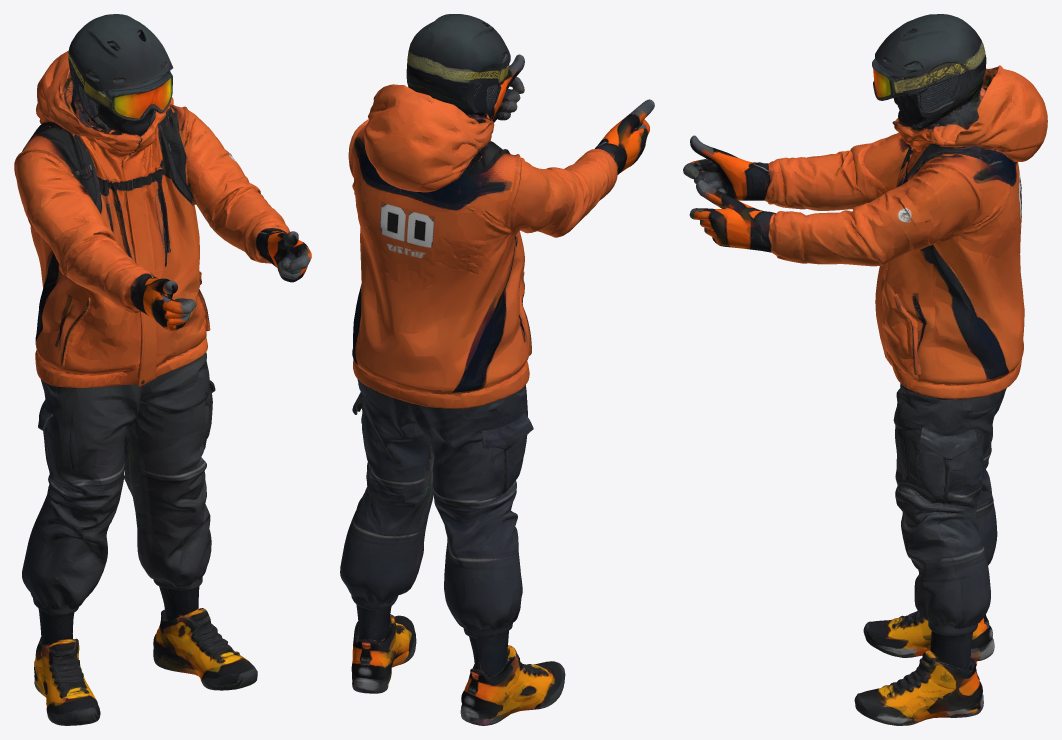
The model's file is skier_3.glb.
3 renders of one model, left to right at view 1: azimuth 30°, elevation 25°; view 2: azimuth 150°, elevation 25°; view 3: azimuth 270°, elevation 25°, orthographic. The views are drawn at different scales.
Size of the model in its own units: 0.6072 by 1.9 by 0.9505.
Materials: 1 (1 with a texture image).
